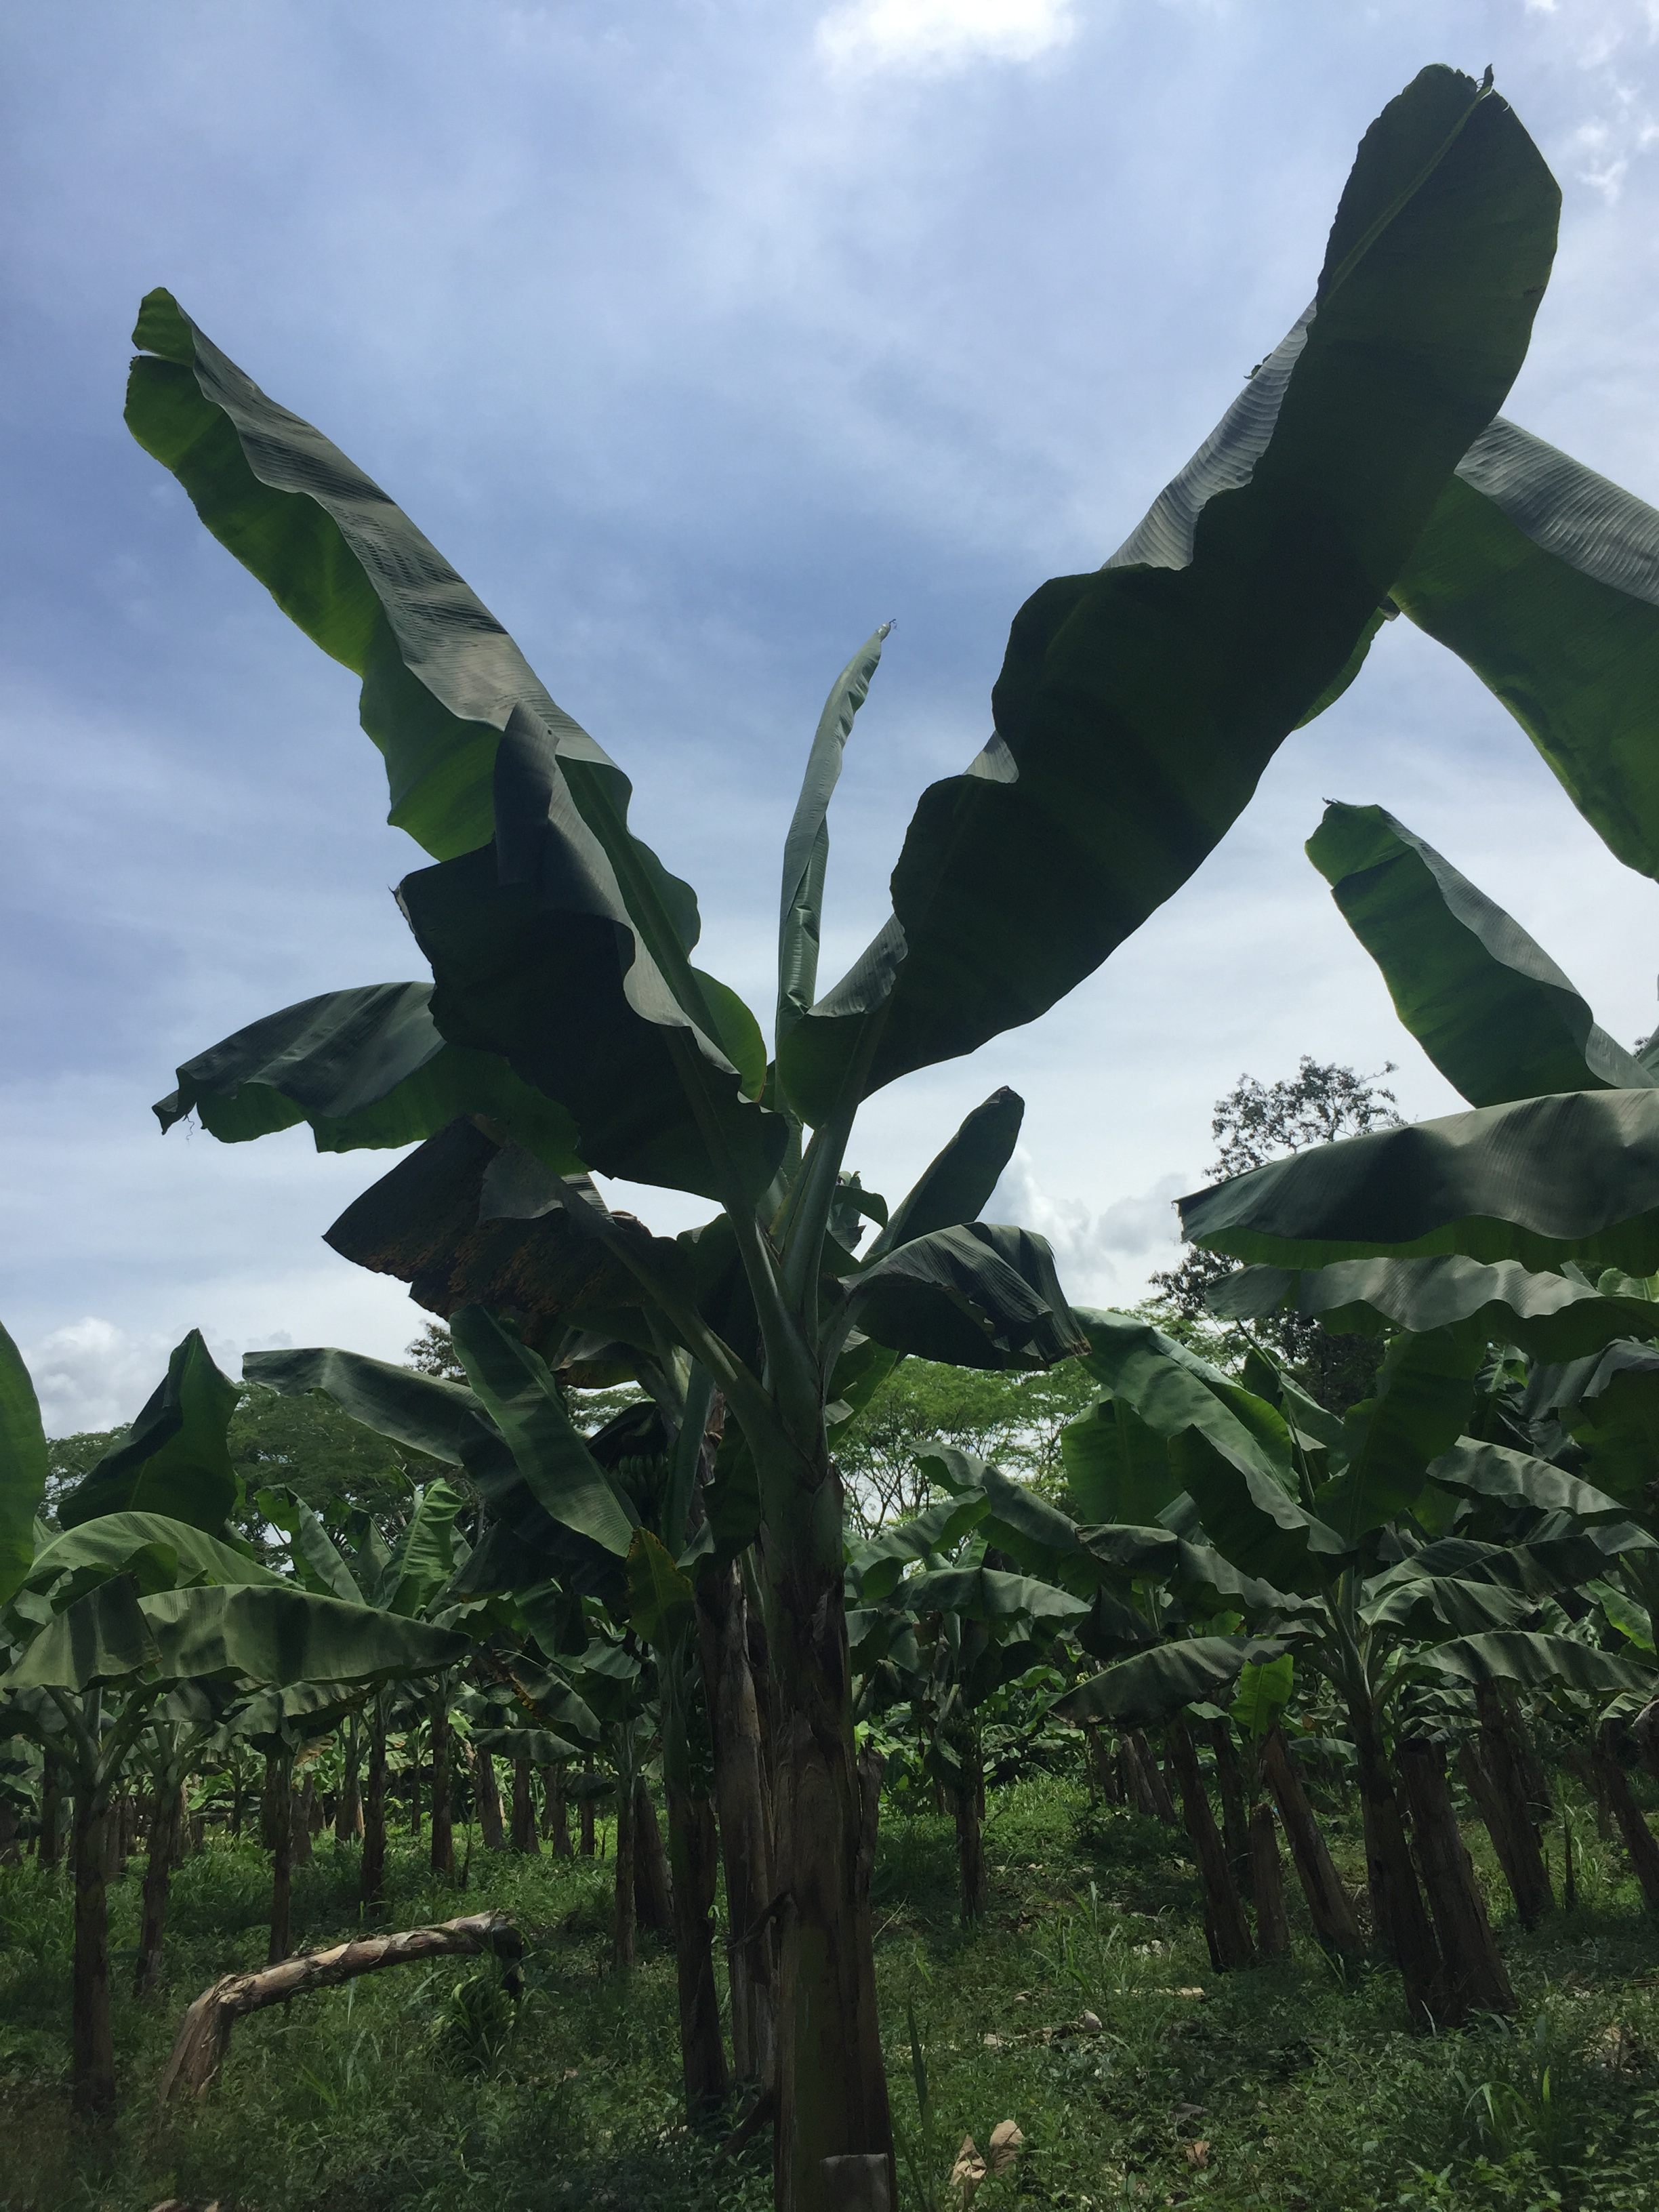candleleafs: (781, 622, 894, 989)
